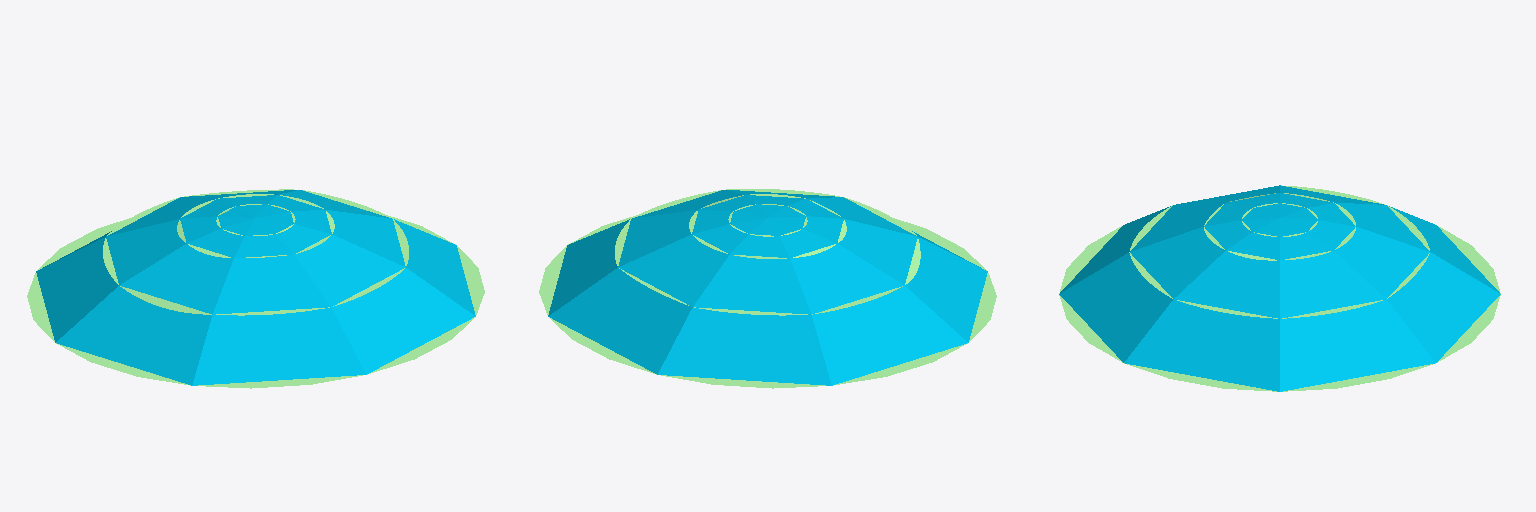
3 renders of one model, left to right at view 1: azimuth 30°, elevation 25°; view 2: azimuth 150°, elevation 25°; view 3: azimuth 270°, elevation 25°, orthographic.
Parts seen in each view (by area): view 1: Mesh1 cupula1 Model; view 2: Mesh1 cupula1 Model; view 3: Mesh1 cupula1 Model.
Part boxes in pixels (x1,y1,x2,y2): Mesh1 cupula1 Model: (27, 189, 484, 388); Mesh1 cupula1 Model: (539, 189, 996, 388); Mesh1 cupula1 Model: (1059, 185, 1500, 391).
Size of the model in its own units: 10.64 by 1.93 by 10.14.
Materials: 3 (1 with a texture image).